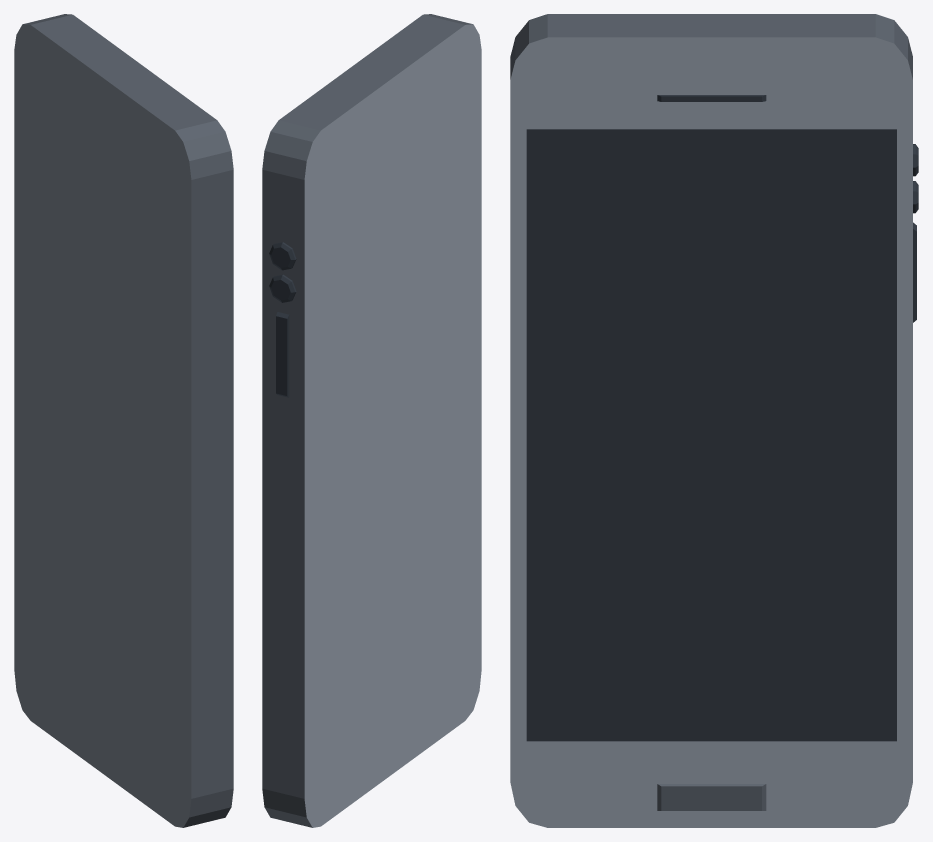
File: phone.dae
3 renders of one model, left to right at view 1: azimuth 30°, elevation 25°; view 2: azimuth 150°, elevation 25°; view 3: azimuth 270°, elevation 25°, orthographic. The views are drawn at different scales.
Visible parts, largest first — view 1: phone; view 2: phone; view 3: phone.
Part boxes in pixels (<box>): phone: <box>14,14,233,827</box>; phone: <box>262,14,481,827</box>; phone: <box>510,14,918,827</box>.
Size of the model in its own units: 0.01 by 0.07 by 0.15.
